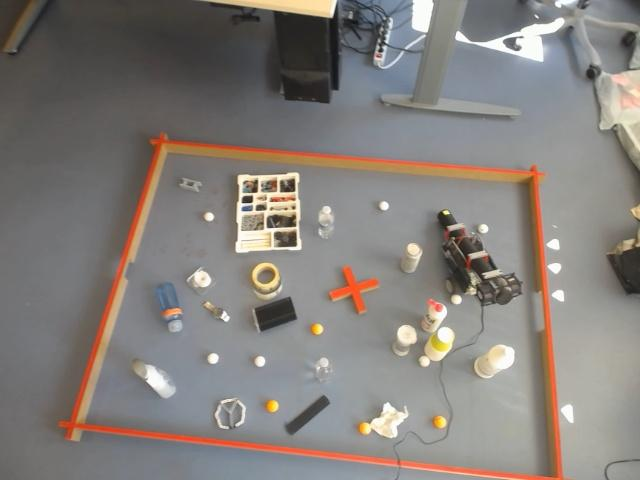orange: (432, 415, 449, 429), (310, 322, 324, 336), (264, 400, 279, 412)
robot: (437, 209, 522, 307)
robot-front: (438, 210, 455, 227)
white: (418, 355, 430, 368), (451, 294, 462, 305), (255, 356, 266, 367), (208, 353, 219, 364), (379, 201, 390, 211), (204, 212, 215, 221), (479, 224, 489, 233)
